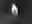person: (12, 5, 20, 18)
